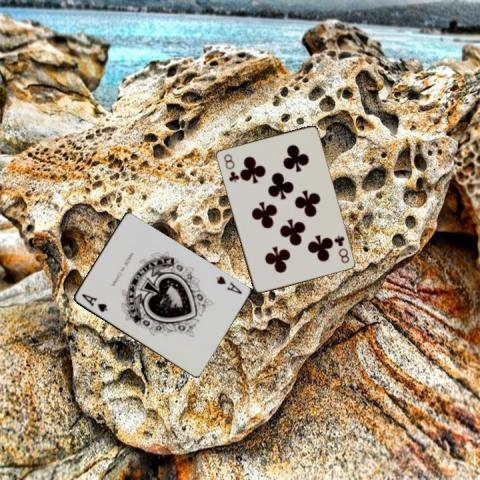8c: (331, 232, 350, 265), (221, 151, 239, 184)
As: (213, 273, 243, 296), (78, 291, 108, 313)
